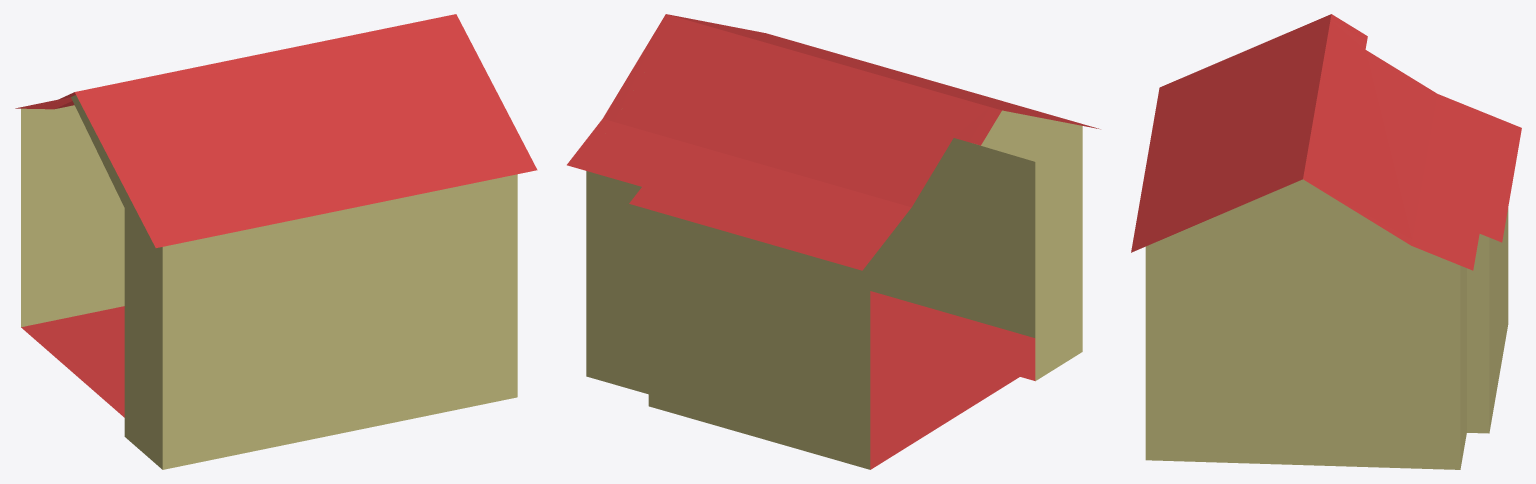
3 renders of one model, left to right at view 1: azimuth 30°, elevation 25°; view 2: azimuth 150°, elevation 25°; view 3: azimuth 270°, elevation 25°, orthographic. The views are drawn at different scales.
Bounding box in the file's own units: 15.11 × 14.2 × 11.69.
